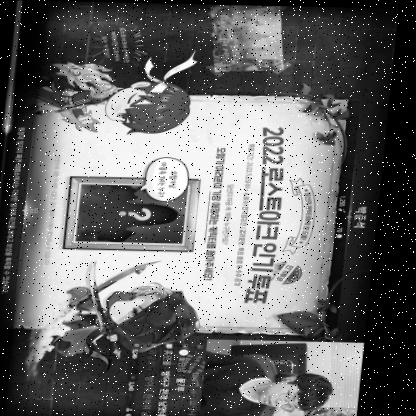streamer: (207, 349, 343, 416)
